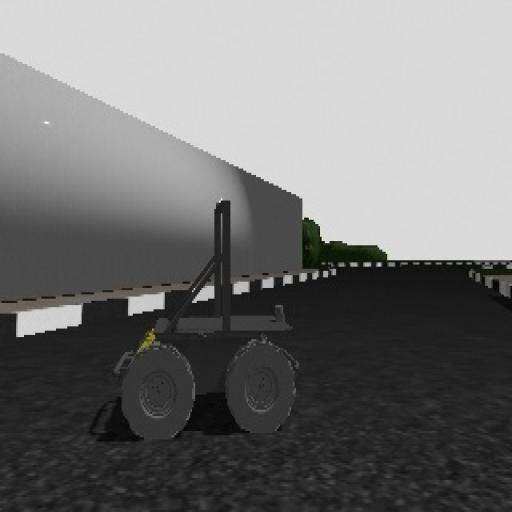huskya200: (97, 188, 336, 454)
